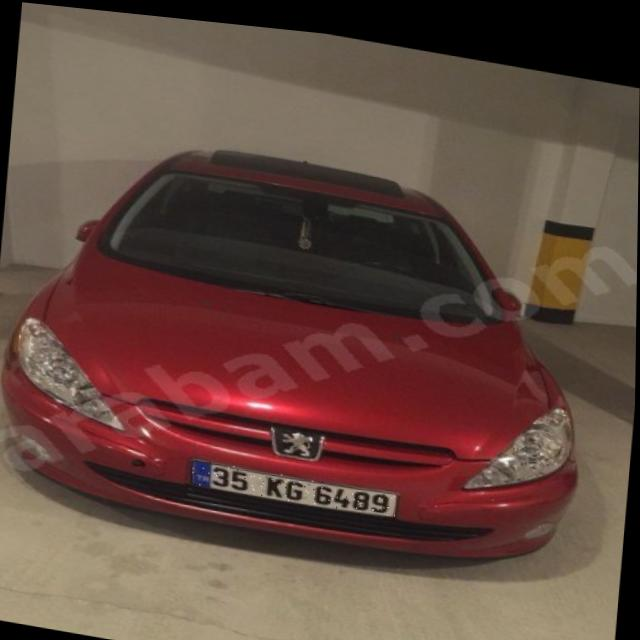license_plate: (190, 454, 398, 510)
